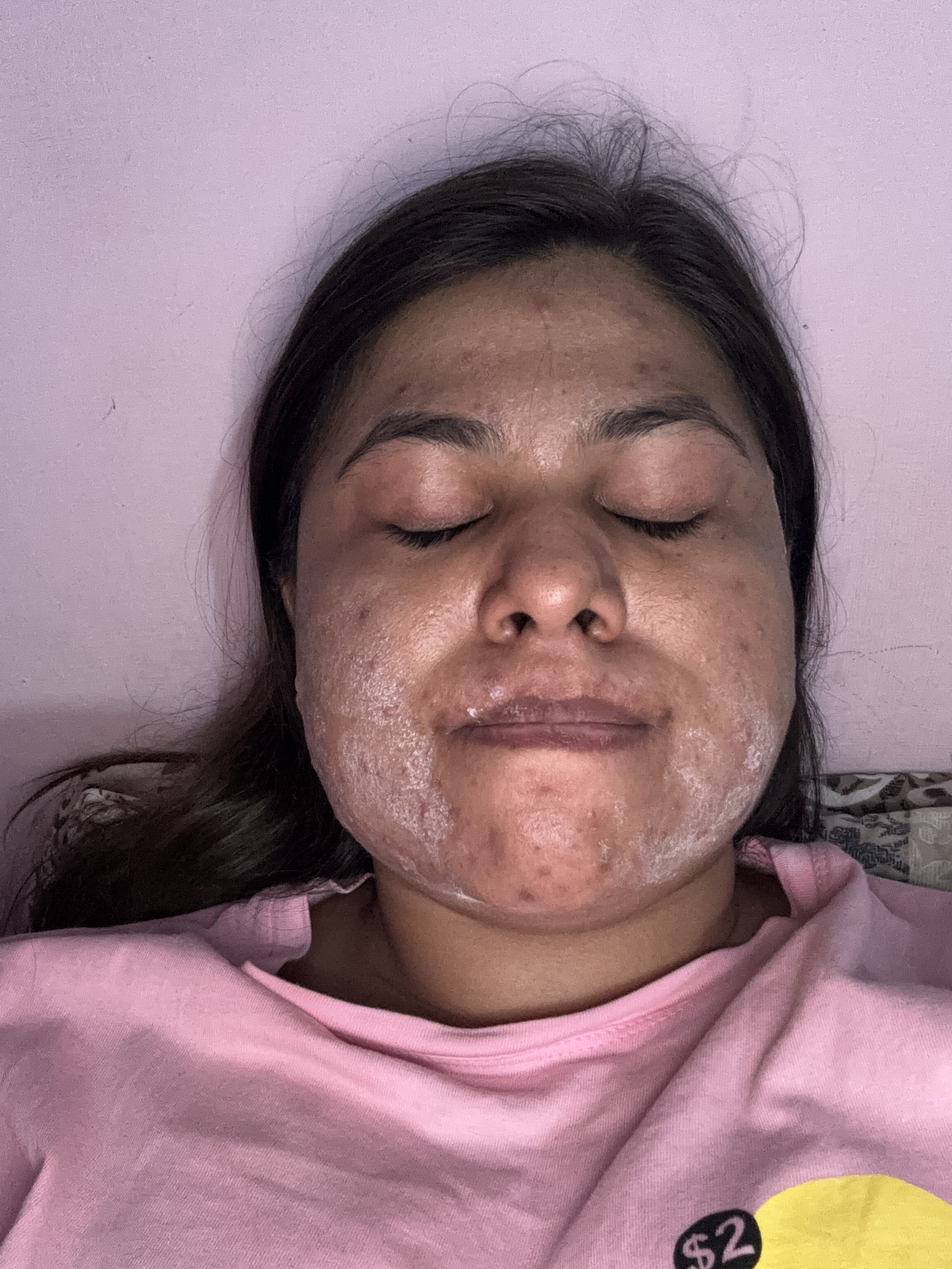nodule: (529, 294, 571, 341), (616, 302, 674, 336)
